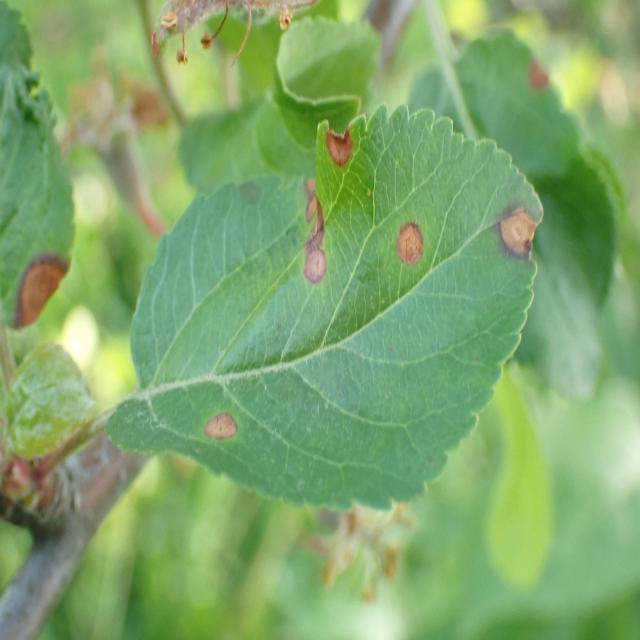frog-eye-leaf-spot: (104, 103, 544, 515), (0, 0, 74, 325)
